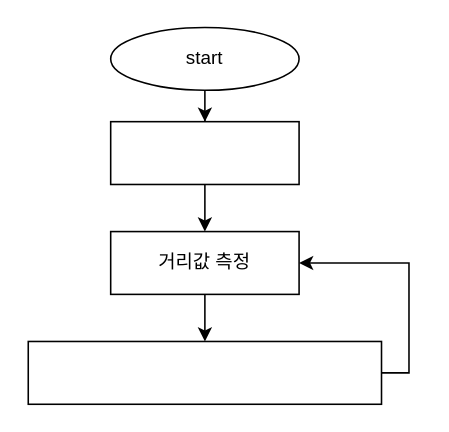
The diagram is 449 pixels wide and 432 high, and some of its shapes have lost their labels. The shapes that lost their labels are listed below. From the top down, each one's centre as x and y in pixels, then its label:
At pixel 204 152: "초음파센서 pin 연결".
At pixel 204 372: "측정된 값으로 전역변수 distancee 갱신".
